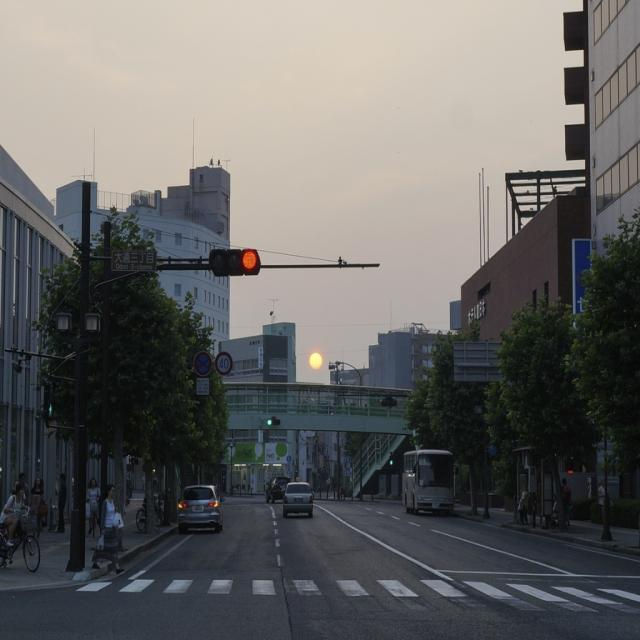traffic light: (208, 247, 263, 279), (267, 419, 281, 426)
